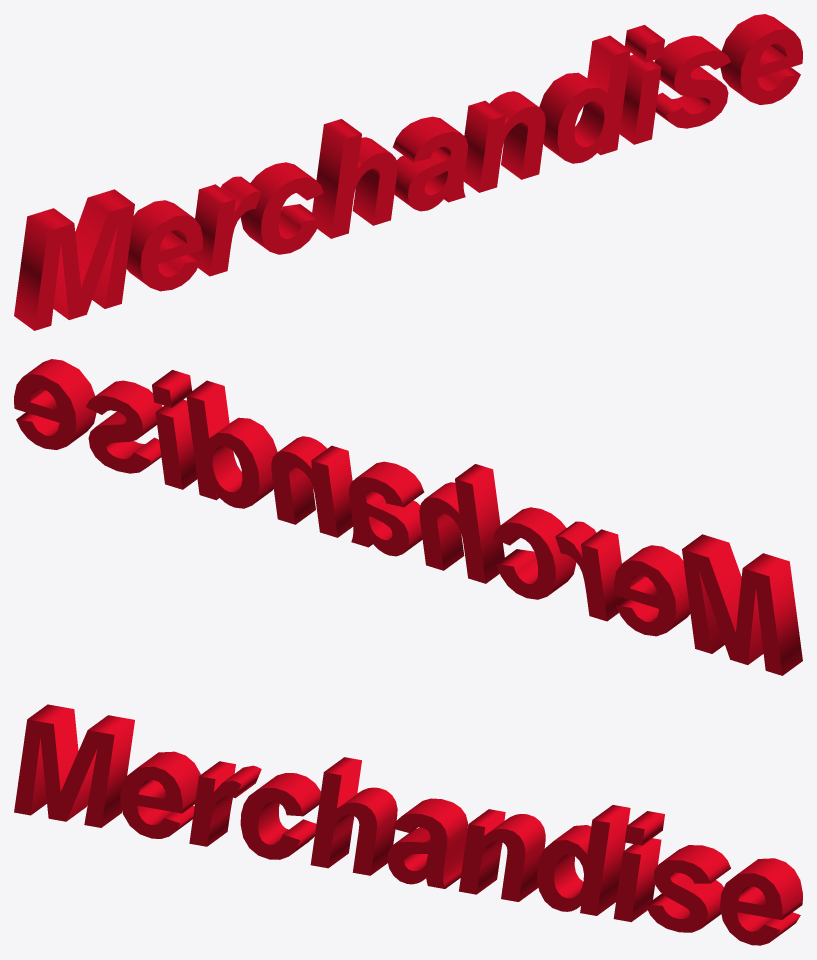
File: Merchandise_text.fbx
3 renders of one model, top to bottom at view 1: azimuth 30°, elevation 25°; view 2: azimuth 150°, elevation 25°; view 3: azimuth 330°, elevation 25°, orthographic.
Parts seen in each view (by area): view 1: Text; view 2: Text; view 3: Text.
Boxes of the visible parts, box(x1,y1,x2,y2) form: Text: box(14, 14, 802, 330); Text: box(14, 359, 802, 675); Text: box(14, 704, 802, 945).
Size of the model in its own units: 277 by 47.35 by 12.8.
